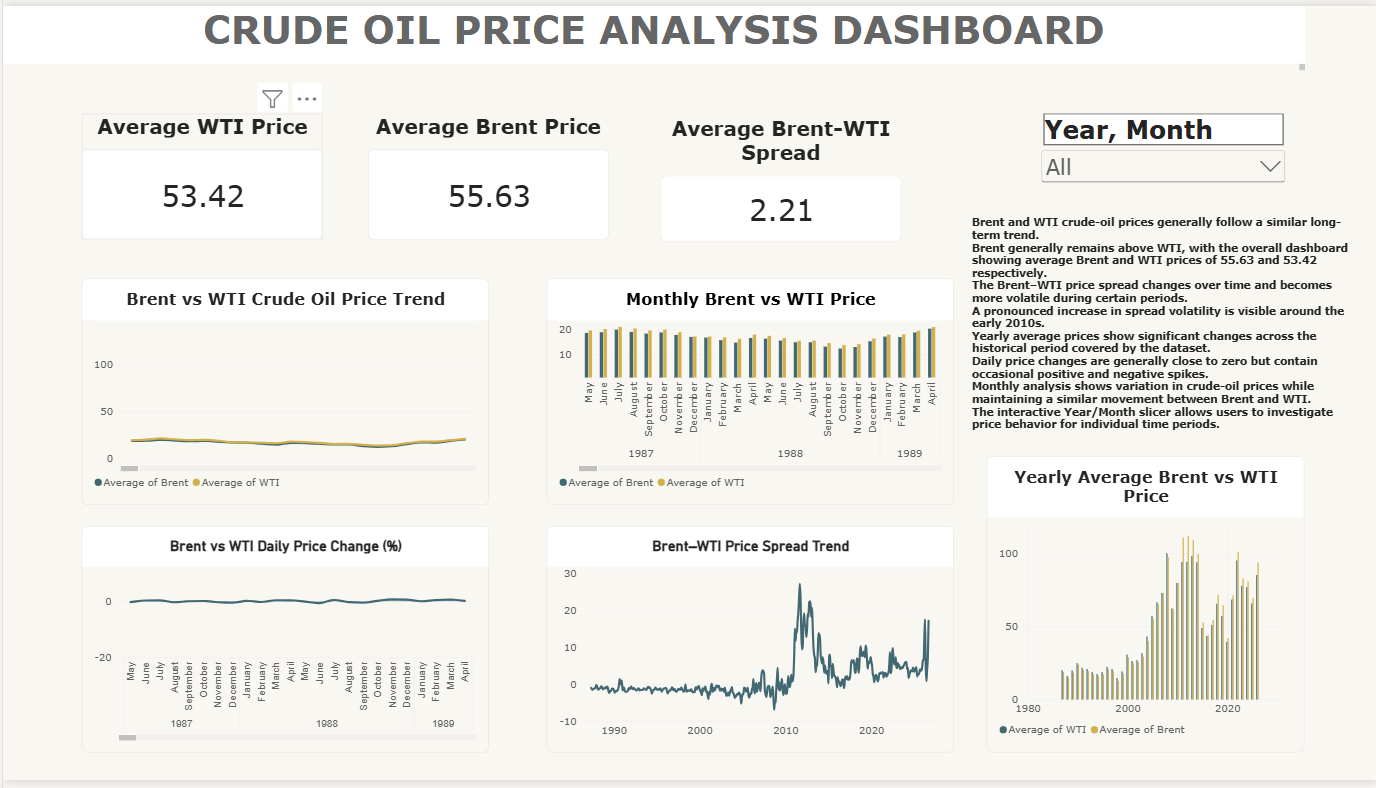

This screenshot's page, from the dashboard's own definition file:
{"tool":"powerbi","page":{"name":"Page 1","canvas":[1920,1080],"ordinal":0},"visuals":[{"type":"lineChart","title":"Brent vs WTI Crude Oil Price Trend","fields":{"Category":["Sheet1.Date.Variation.Date Hierarchy.Year","Sheet1.Date.Variation.Date Hierarchy.Month"],"Y":["Avg(Sheet1.Brent)","Avg(Sheet1.WTI)"]},"box":[110,380,568,316],"z":0},{"type":"cardVisual","title":"Average WTI Price","fields":{"Data":["Avg(Sheet1.WTI)"]},"box":[110,150,336.7,176.7],"z":1000},{"type":"slicer","fields":{"Values":["Sheet1.Date.Variation.Date Hierarchy.Year","Sheet1.Date.Variation.Date Hierarchy.Month"]},"box":[1445,150,350,102.5],"z":2000},{"type":"lineChart","title":"Brent–WTI Price Spread Trend","fields":{"Category":["Sheet1.Date.Variation.Date Hierarchy.Year","Sheet1.Date.Variation.Date Hierarchy.Month"],"Y":["Avg(Sheet1.Spread)"]},"box":[758,726,568,316],"z":3000},{"type":"clusteredColumnChart","title":"Monthly  Brent vs WTI Price","fields":{"Category":["Sheet1.Date.Variation.Date Hierarchy.Year","Sheet1.Date.Variation.Date Hierarchy.Month"],"Y":["Avg(Sheet1.Brent)","Avg(Sheet1.WTI)"]},"box":[758,380,568,316],"z":4000},{"type":"stackedAreaChart","title":"Brent vs WTI Daily Price Change (%)","fields":{"Category":["Sheet1.Date.Variation.Date Hierarchy.Year","Sheet1.Date.Variation.Date Hierarchy.Month"],"Y":["Avg(Sheet1.WTI_Daily_Change_%)"]},"box":[110,726,568,316],"z":5000},{"type":"textbox","title":" CRUDE OIL PRICE ANALYSIS DASHBOARD","box":[0,0,1816.7,90],"z":6000},{"type":"cardVisual","title":"Average Brent Price","fields":{"Data":["Avg(Sheet1.Brent)"]},"box":[510,150,336,176.7],"z":7000},{"type":"cardVisual","title":"Average  Brent-WTI Spread","fields":{"Data":["Avg(Sheet1.Spread)"]},"box":[916.7,153.3,336,176],"z":8000},{"type":"clusteredColumnChart","title":"Yearly Average Brent vs WTI Price","fields":{"Category":["Sheet1.Date.Variation.Date Hierarchy.Year"],"Y":["Avg(Sheet1.WTI)","Avg(Sheet1.Brent)"]},"box":[1372.7,627.9,443.3,413.3],"z":9000},{"type":"textbox","box":[1351.7,293,537.2,312.2],"z":9001}]}

Visuals, with their boxes in screenshot pixels (x1, y1, x2, y2), scaled from the page's 1920x1080 canvas onto the 1376x788 screenshot:
"Brent vs WTI Crude Oil Price Trend" lineChart: left=79, top=277, right=486, bottom=508
"Average WTI Price" cardVisual: left=79, top=109, right=320, bottom=238
slicer - Sheet1.Date.Variation.Date Hierarchy.Year x Sheet1.Date.Variation.Date Hierarchy.Month: left=1036, top=109, right=1286, bottom=184
"Brent–WTI Price Spread Trend" lineChart: left=543, top=530, right=950, bottom=760
"Monthly  Brent vs WTI Price" clusteredColumnChart: left=543, top=277, right=950, bottom=508
"Brent vs WTI Daily Price Change (%)" stackedAreaChart: left=79, top=530, right=486, bottom=760
" CRUDE OIL PRICE ANALYSIS DASHBOARD" textbox: left=0, top=0, right=1302, bottom=66
"Average Brent Price" cardVisual: left=366, top=109, right=606, bottom=238
"Average  Brent-WTI Spread" cardVisual: left=657, top=112, right=898, bottom=240
"Yearly Average Brent vs WTI Price" clusteredColumnChart: left=984, top=458, right=1301, bottom=760
textbox: left=969, top=214, right=1354, bottom=442
